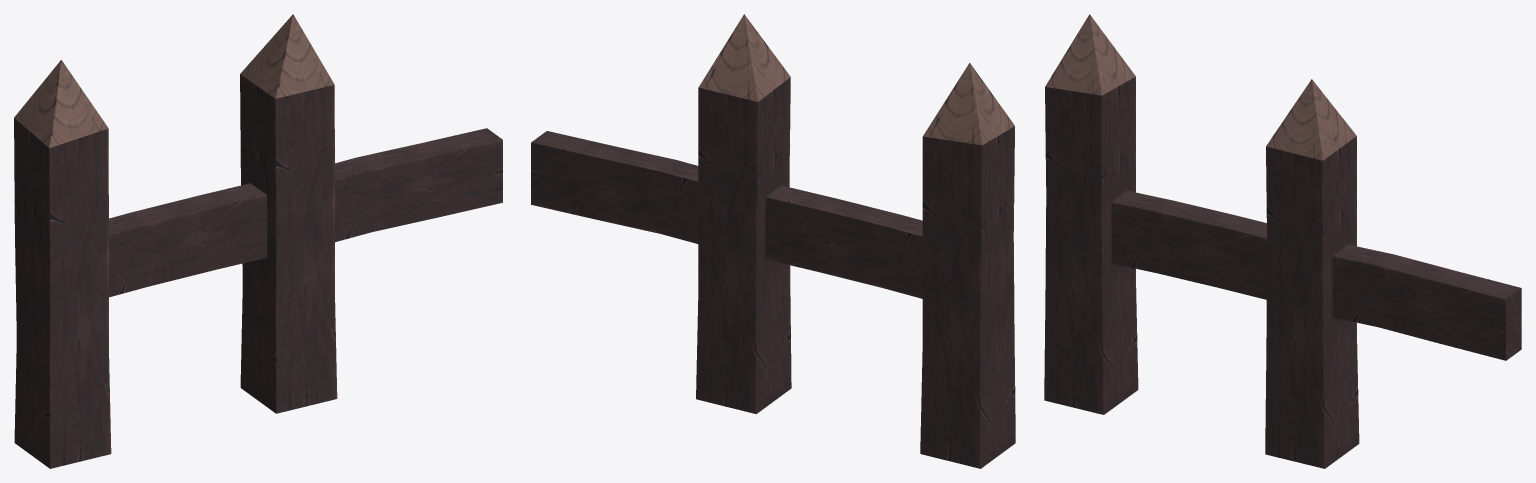
Rendered from SmallFence_b.FBX.
3 renders of one model, left to right at view 1: azimuth 30°, elevation 25°; view 2: azimuth 150°, elevation 25°; view 3: azimuth 330°, elevation 25°, orthographic. The views are drawn at different scales.
Visible parts, largest first — view 1: Box049; view 2: Box049; view 3: Box049.
Part boxes in pixels (x1,y1,x2,y2): Box049: (14,14,502,468); Box049: (531,14,1015,468); Box049: (1044,14,1521,468).
Size of the model in its own units: 3.47 by 2.79 by 0.461.
1 material, 1 textured.
